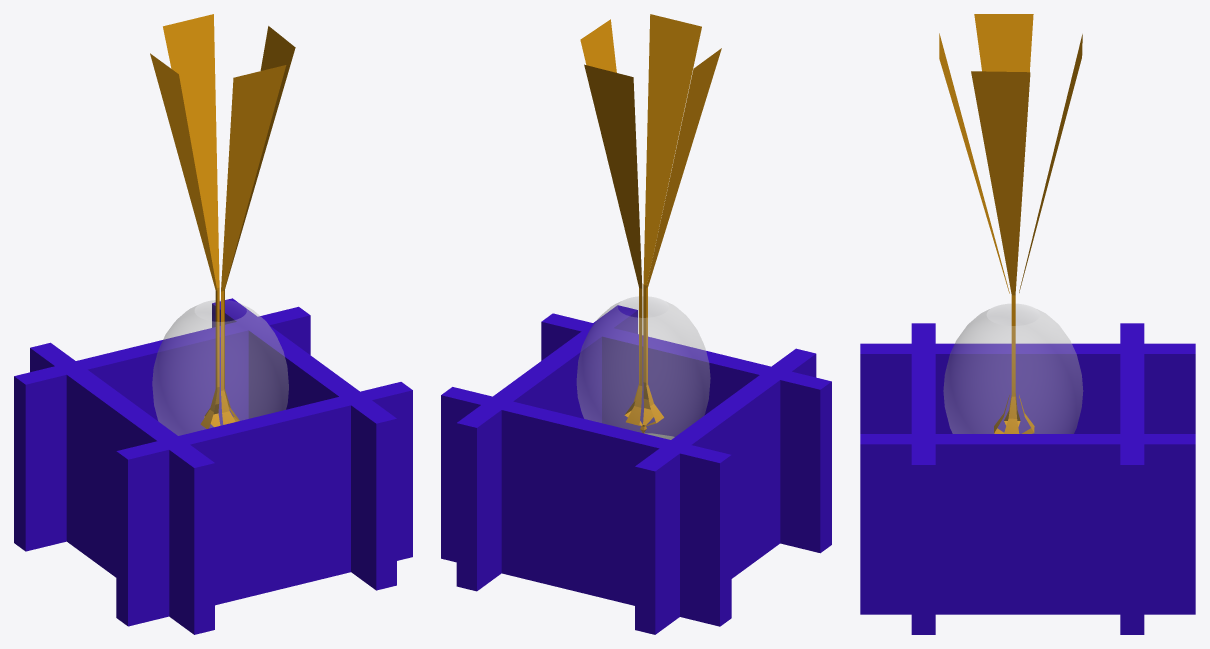
File: ControlTower_aiMotherGroup.glb
The picture shows the model from 3 angles, left to right: view 1: azimuth 30°, elevation 25°; view 2: azimuth 150°, elevation 25°; view 3: azimuth 270°, elevation 25°; orthographic projection. The views are drawn at different scales.
Parts seen in each view (by area): view 1: MOTHERGUARD.001, aimother, MOTHERGUARD.003, MOTHERGUARD, MOTHERGUARD.002; view 2: MOTHERGUARD.003, aimother, MOTHERGUARD.001, MOTHERGUARD, MOTHERGUARD.002; view 3: MOTHERGUARD.002, aimother, MOTHERGUARD, MOTHERGUARD.001, MOTHERGUARD.003.
Part boxes in pixels (left/top/right/bottom): MOTHERGUARD.001: left=116, top=382, right=412, bottom=626; aimother: left=150, top=14, right=295, bottom=435; MOTHERGUARD.003: left=14, top=306, right=310, bottom=551; MOTHERGUARD: left=30, top=342, right=214, bottom=634; MOTHERGUARD.002: left=212, top=298, right=396, bottom=590; MOTHERGUARD.003: left=441, top=387, right=731, bottom=626; aimother: left=577, top=14, right=721, bottom=439; MOTHERGUARD.001: left=541, top=313, right=831, bottom=553; MOTHERGUARD: left=635, top=348, right=816, bottom=634; MOTHERGUARD.002: left=456, top=305, right=637, bottom=591; MOTHERGUARD.002: left=860, top=434, right=1195, bottom=614; aimother: left=939, top=14, right=1082, bottom=433; MOTHERGUARD: left=860, top=343, right=1195, bottom=433; MOTHERGUARD.001: left=911, top=323, right=935, bottom=634; MOTHERGUARD.003: left=1120, top=323, right=1144, bottom=634.
Bounding box in the file's own units: 569 × 973 × 569.
